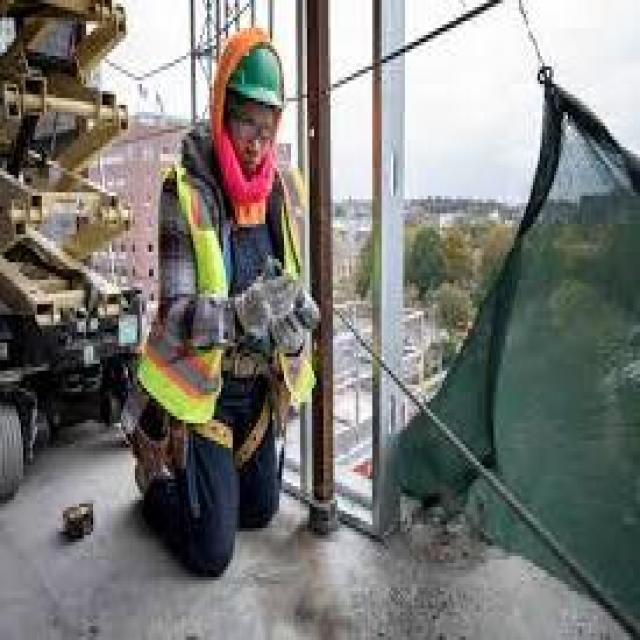Reflective-Jacket: (128, 147, 314, 462)
Safety-Helmet: (198, 18, 295, 130)
